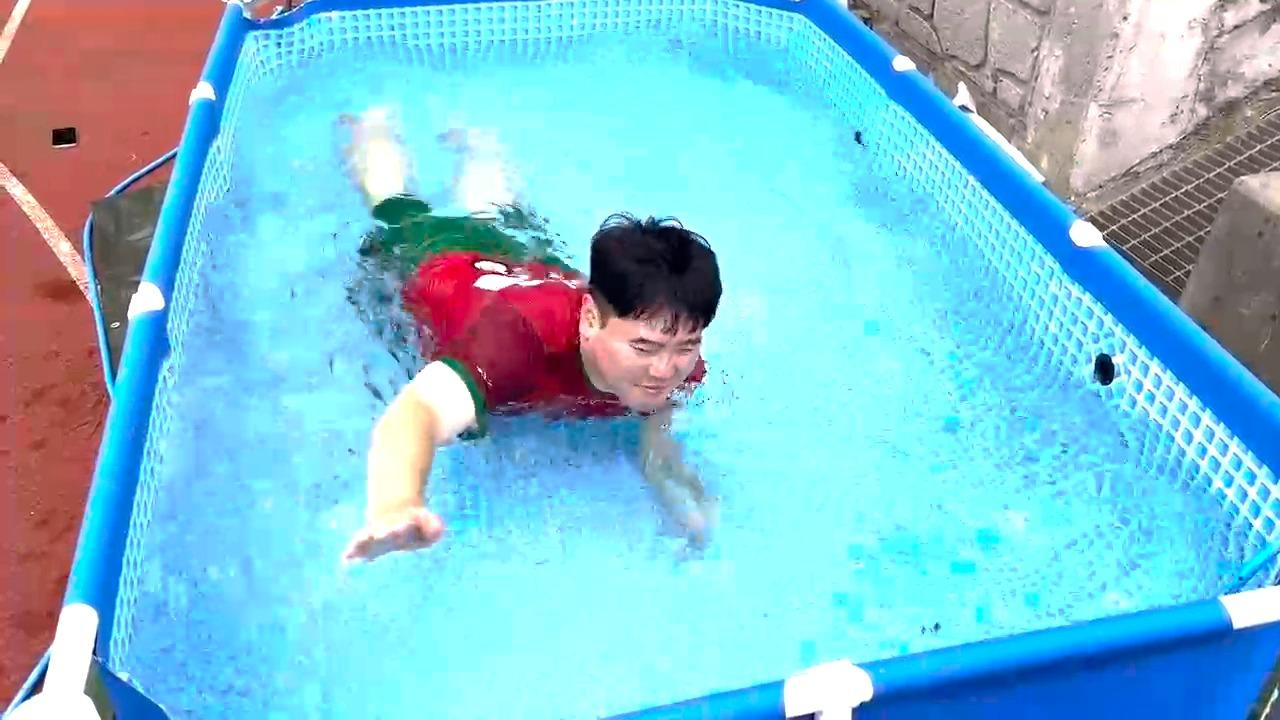Swimming: (307, 57, 760, 573)
